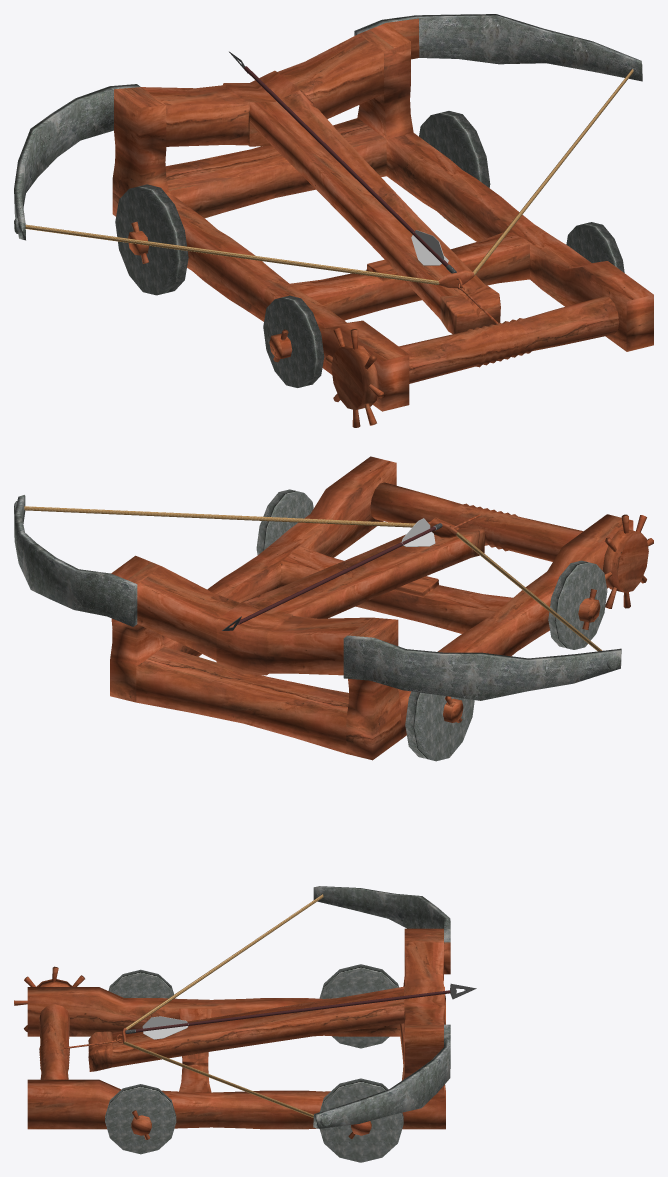
Rendered from ballista.fbx.
3 renders of one model, top to bottom at view 1: azimuth 30°, elevation 25°; view 2: azimuth 150°, elevation 25°; view 3: azimuth 270°, elevation 25°, orthographic. The views are drawn at different scales.
Parts seen in each view (by area): view 1: ballista, virote; view 2: ballista, virote; view 3: ballista, virote.
Boxes of the visible parts, bbox=[...] form: ballista: bbox=[14, 14, 653, 427]; virote: bbox=[229, 51, 456, 273]; ballista: bbox=[14, 456, 653, 761]; virote: bbox=[222, 518, 442, 630]; ballista: bbox=[14, 886, 450, 1162]; virote: bbox=[125, 983, 476, 1039].
Size of the model in its own units: 8.18 by 2.32 by 9.33.
7 materials, 3 textured.
